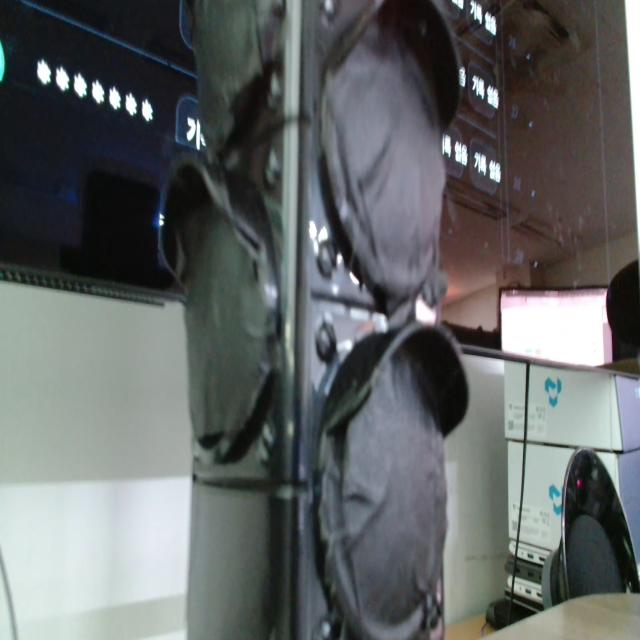green_light: (0, 42, 5, 82)
